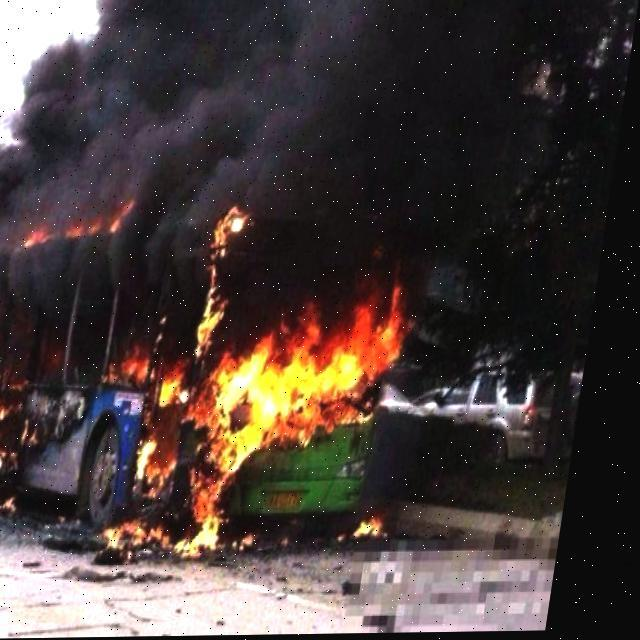Fire: (0, 199, 435, 566)
